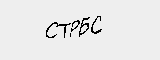Б: (78, 14, 90, 39)
Р: (68, 15, 78, 42)
С: (90, 14, 103, 37), (44, 22, 61, 39)
Т: (56, 21, 71, 40)
